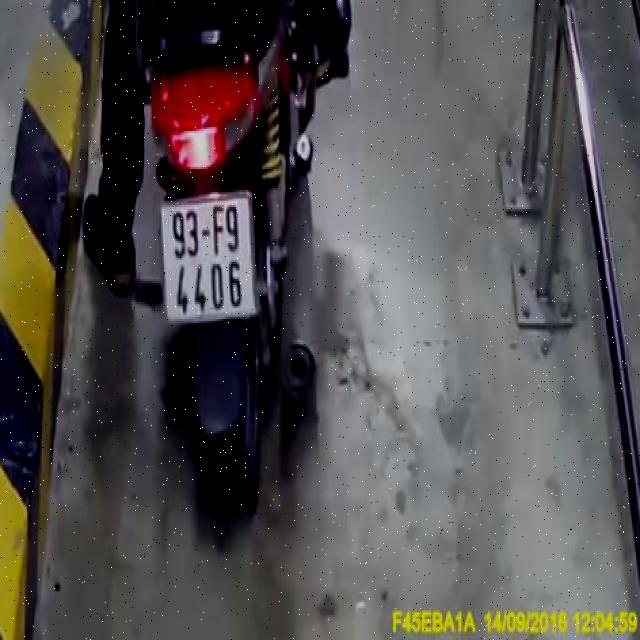0: (208, 261, 225, 316)
3: (187, 210, 200, 260)
4: (173, 265, 190, 315), (192, 262, 206, 314)
6: (228, 259, 246, 310)
9: (169, 211, 187, 262), (225, 205, 241, 252)
F: (212, 205, 224, 258)
